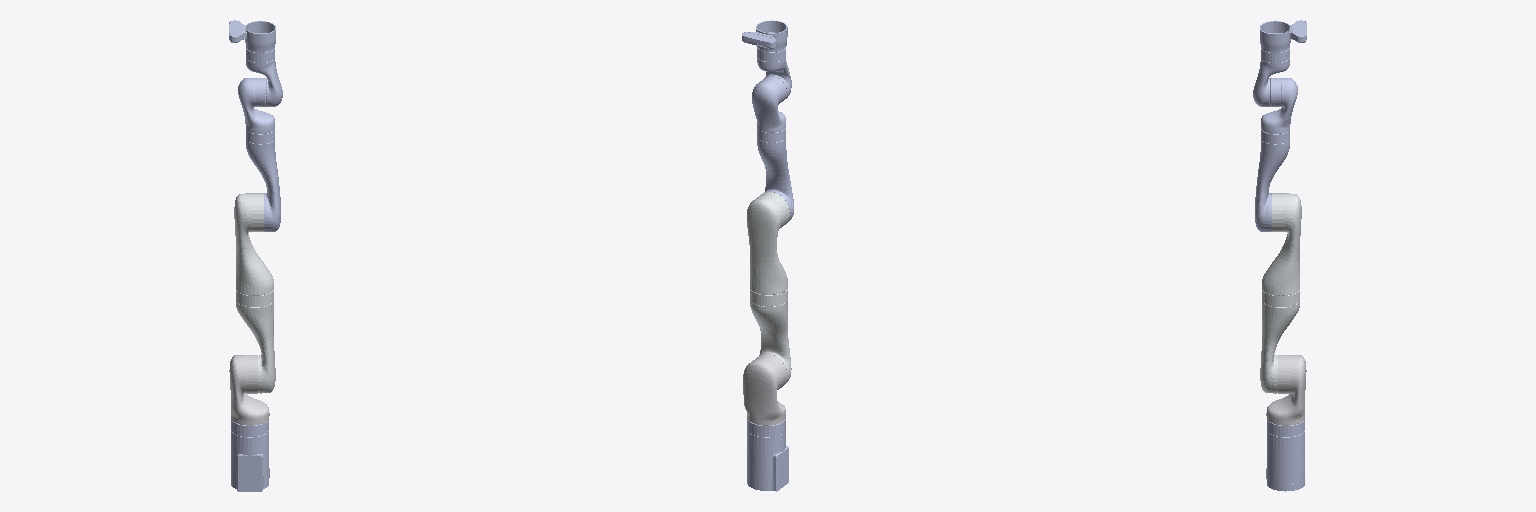
The robot description file, URDF, robot "JACO3_URDF_V10":
<robot
  name="JACO3_URDF_V10" version="1.0">
  <link
    name="base_link">
    <inertial>
      <origin
        xyz="-0.00077898 -4.2629E-05 0.077301"
        rpy="0 0 0" />
      <mass
        value="1.661" />
      <inertia
        ixx="0.0046774"
        ixy="-2.8192E-07"
        ixz="-4.8238E-05"
        iyy="0.0047194"
        iyz="-4.2299E-06"
        izz="0.0019958" />
    </inertial>
    <visual>
      <origin
        xyz="0 0 0"
        rpy="0 0 0" />
      <geometry>
        <mesh
          filename="package://kortex_description/meshes/base_link.dae" />
      </geometry>
      <material
        name="">
        <color
          rgba="0.79216 0.81961 0.93333 1" />
      </material>
    </visual>
    <collision>
      <origin
        xyz="0 0 0"
        rpy="0 0 0" />
      <geometry>
        <mesh
          filename="package://kortex_description/meshes/base_link.dae" />
      </geometry>
    </collision>
  </link>
  <link
    name="Shoulder_Link">
    <inertial>
      <origin
        xyz="-2.2888E-05 -0.010511 -0.075159"
        rpy="0 0 0" />
      <mass
        value="2.009" />
      <inertia
        ixx="0.0045081"
        ixy="-8.5826E-07"
        ixz="-1.8997E-06"
        iyy="0.0047695"
        iyz="-0.00045534"
        izz="0.0013903" />
    </inertial>
    <visual>
      <origin
        xyz="0 0 0"
        rpy="0 0 0" />
      <geometry>
        <mesh
          filename="package://kortex_description/meshes/Shoulder_Link.dae" />
      </geometry>
      <material
        name="">
        <color
          rgba="0.86667 0.86667 0.8902 1" />
      </material>
    </visual>
    <collision>
      <origin
        xyz="0 0 0"
        rpy="0 0 0" />
      <geometry>
        <mesh
          filename="package://kortex_description/meshes/Shoulder_Link.dae" />
      </geometry>
    </collision>
  </link>
  <joint
    name="Actuator1"
    type="continuous">
    <origin
      xyz="0 0 0.15643"
      rpy="3.1416 0 0" />
    <parent
      link="base_link" />
    <child
      link="Shoulder_Link" />
    <axis
      xyz="0 0 1" />
    <limit
      effort="39"
      velocity="0.8727" />
  </joint>
  <link
    name="HalfArm1_Link">
    <inertial>
      <origin
        xyz="-2.7821E-05 -0.097298 -0.012693"
        rpy="0 0 0" />
      <mass
        value="1.106" />
      <inertia
        ixx="0.0089168"
        ixy="-2.8995E-06"
        ixz="-1.6642E-07"
        iyy="0.00073106"
        iyz="0.00051768"
        izz="0.0090416" />
    </inertial>
    <visual>
      <origin
        xyz="0 0 0"
        rpy="0 0 0" />
      <geometry>
        <mesh
          filename="package://kortex_description/meshes/HalfArm1_Link.dae" />
      </geometry>
      <material
        name="">
        <color
          rgba="0.89804 0.91765 0.92941 1" />
      </material>
    </visual>
    <collision>
      <origin
        xyz="0 0 0"
        rpy="0 0 0" />
      <geometry>
        <mesh
          filename="package://kortex_description/meshes/HalfArm1_Link.dae" />
      </geometry>
    </collision>
  </link>
  <joint
    name="Actuator2"
    type="revolute">
    <origin
      xyz="0 0.005375 -0.12838"
      rpy="1.5708 0 0" />
    <parent
      link="Shoulder_Link" />
    <child
      link="HalfArm1_Link" />
    <axis
      xyz="0 0 1" />
    <limit
      lower="-2.2000"
      upper="2.2000"
      effort="39"
      velocity="0.8727" />
  </joint>
  <link
    name="HalfArm2_Link">
    <inertial>
      <origin
        xyz="2.9808E-05 -0.0062391 -0.11552"
        rpy="0 0 0" />
      <mass
        value="1.106" />
      <inertia
        ixx="0.0088707"
        ixy="2.3435E-07"
        ixz="-3.3202E-06"
        iyy="0.0090034"
        iyz="-0.00050415"
        izz="0.00071859" />
    </inertial>
    <visual>
      <origin
        xyz="0 0 0"
        rpy="0 0 0" />
      <geometry>
        <mesh
          filename="package://kortex_description/meshes/HalfArm2_Link.dae" />
      </geometry>
      <material
        name="">
        <color
          rgba="0.89804 0.91765 0.92941 1" />
      </material>
    </visual>
    <collision>
      <origin
        xyz="0 0 0"
        rpy="0 0 0" />
      <geometry>
        <mesh
          filename="package://kortex_description/meshes/HalfArm2_Link.dae" />
      </geometry>
    </collision>
  </link>
  <joint
    name="Actuator3"
    type="continuous">
    <origin
      xyz="0 -0.21038 -0.006375"
      rpy="-1.5708 0 0" />
    <parent
      link="HalfArm1_Link" />
    <child
      link="HalfArm2_Link" />
    <axis
      xyz="0 0 1" />
    <limit
      effort="39"
      velocity="0.8727" />
  </joint>
  <link
    name="ForeArm_Link">
    <inertial>
      <origin
        xyz="-1.1024E-05 -0.075357 -0.014085"
        rpy="0 0 0" />
      <mass
        value="0.895" />
      <inertia
        ixx="0.0067339"
        ixy="6.9646E-07"
        ixz="-2.2424E-08"
        iyy="0.00045088"
        iyz="0.00038999"
        izz="0.0068613" />
    </inertial>
    <visual>
      <origin
        xyz="0 0 0"
        rpy="0 0 0" />
      <geometry>
        <mesh
          filename="package://kortex_description/meshes/ForeArm_Link.dae" />
      </geometry>
      <material
        name="">
        <color
          rgba="0.79216 0.81961 0.93333 1" />
      </material>
    </visual>
    <collision>
      <origin
        xyz="0 0 0"
        rpy="0 0 0" />
      <geometry>
        <mesh
          filename="package://kortex_description/meshes/ForeArm_Link.dae" />
      </geometry>
    </collision>
  </link>
  <joint
    name="Actuator4"
    type="revolute">
    <origin
      xyz="0 0.006375 -0.21038"
      rpy="1.5708 0 0" />
    <parent
      link="HalfArm2_Link" />
    <child
      link="ForeArm_Link" />
    <axis
      xyz="0 0 1" />
    <limit
      lower="-2.5656"
      upper="2.5656"
      effort="39"
      velocity="0.8727" />
  </joint>
  <link
    name="Wrist1_Link">
    <inertial>
      <origin
        xyz="-3.2964E-07 -0.009617 -0.062968"
        rpy="0 0 0" />
      <mass
        value="0.654" />
      <inertia
        ixx="0.0013311"
        ixy="-4.5849E-10"
        ixz="-4.2678E-10"
        iyy="0.0013282"
        iyz="-0.00022936"
        izz="0.00030696" />
    </inertial>
    <visual>
      <origin
        xyz="0 0 0"
        rpy="0 0 0" />
      <geometry>
        <mesh
          filename="package://kortex_description/meshes/Wrist1_Link.dae" />
      </geometry>
      <material
        name="">
        <color
          rgba="0.79216 0.81961 0.93333 1" />
      </material>
    </visual>
    <collision>
      <origin
        xyz="0 0 0"
        rpy="0 0 0" />
      <geometry>
        <mesh
          filename="package://kortex_description/meshes/Wrist1_Link.dae" />
      </geometry>
    </collision>
  </link>
  <joint
    name="Actuator5"
    type="continuous">
    <origin
      xyz="0 -0.20843 -0.006375"
      rpy="-1.5708 0 0" />
    <parent
      link="ForeArm_Link" />
    <child
      link="Wrist1_Link" />
    <axis
      xyz="0 0 1" />
    <limit
      effort="9"
      velocity="0.8727" />
  </joint>
  <link
    name="Wrist2_Link">
    <inertial>
      <origin
        xyz="-3.4377E-07 -0.044043 -0.0097804"
        rpy="0 0 0" />
      <mass
        value="0.654" />
      <inertia
        ixx="0.0013422"
        ixy="4.9596E-10"
        ixz="-7.3382E-10"
        iyy="0.00031025"
        iyz="0.00023506"
        izz="0.001336" />
    </inertial>
    <visual>
      <origin
        xyz="0 0 0"
        rpy="0 0 0" />
      <geometry>
        <mesh
          filename="package://kortex_description/meshes/Wrist2_Link.dae" />
      </geometry>
      <material
        name="">
        <color
          rgba="0.79216 0.81961 0.93333 1" />
      </material>
    </visual>
    <collision>
      <origin
        xyz="0 0 0"
        rpy="0 0 0" />
      <geometry>
        <mesh
          filename="package://kortex_description/meshes/Wrist2_Link.dae" />
      </geometry>
    </collision>
  </link>
  <joint
    name="Actuator6"
    type="revolute">
    <origin
      xyz="0 0.00017505 -0.10593"
      rpy="1.5708 0 0" />
    <parent
      link="Wrist1_Link" />
    <child
      link="Wrist2_Link" />
    <axis
      xyz="0 0 1" />
    <limit
      lower="-2.0500"
      upper="2.0500"
      effort="9"
      velocity="0.8727" />
  </joint>
  <link
    name="Bracelet_Link">
    <inertial>
      <origin
        xyz="-2.788E-05 -0.0052162 -0.022692"
        rpy="0 0 0" />
      <mass
        value="0.31408" />
      <inertia
        ixx="0.0002264"
        ixy="-4.9091E-07"
        ixz="-2.6238E-07"
        iyy="0.00015697"
        iyz="-4.5614E-05"
        izz="0.00025981" />
    </inertial>
    <visual>
      <origin
        xyz="0 0 0"
        rpy="0 0 0" />
      <geometry>
        <mesh
          filename="package://kortex_description/meshes/Bracelet_Link.dae" />
      </geometry>
      <material
        name="">
        <color
          rgba="0.79216 0.81961 0.93333 1" />
      </material>
    </visual>
    <collision>
      <origin
        xyz="0 0 0"
        rpy="0 0 0" />
      <geometry>
        <mesh
          filename="package://kortex_description/meshes/Bracelet_Link.dae" />
      </geometry>
    </collision>
  </link>
  <joint
    name="Actuator7"
    type="continuous">
    <origin
      xyz="0 -0.10593 -0.00017505"
      rpy="-1.5708 0 0" />
    <parent
      link="Wrist2_Link" />
    <child
      link="Bracelet_Link" />
    <axis
      xyz="0 0 1" />
    <limit
      effort="9"
      velocity="0.8727" />
  </joint>
  <link
    name="EndEffector_Link">
    <inertial>
      <origin
        xyz="-0.00017492 0.014824 -0.62969"
        rpy="0 0 0" />
      <mass
        value="0" />
      <inertia
        ixx="0"
        ixy="0"
        ixz="0"
        iyy="0"
        iyz="0"
        izz="0" />
    </inertial>
    <visual>
      <origin
        xyz="0 0 0"
        rpy="0 0 0" />
      <geometry>
        <mesh
          filename="package://kortex_description/meshes/EndEffector_Link.dae" />
      </geometry>
      <material
        name="">
        <color
          rgba="0.79216 0.81961 0.93333 1" />
      </material>
    </visual>
    <collision>
      <origin
        xyz="0 0 0"
        rpy="0 0 0" />
      <geometry>
        <mesh
          filename="package://kortex_description/meshes/EndEffector_Link.dae" />
      </geometry>
    </collision>
  </link>
  <joint
    name="Endeffector"
    type="fixed">
    <origin
      xyz="0 0 -0.059525"
      rpy="3.1416 0 0" />
    <parent
      link="Bracelet_Link" />
    <child
      link="EndEffector_Link" />
    <axis
      xyz="0 0 0" />
  </joint>
</robot>

--- Render facts (derived) ---
Views: 3 orthographic renders of the robot side by side, from view 1: azimuth 90°, elevation 25°; view 2: azimuth 150°, elevation 25°; view 3: azimuth 270°, elevation 25°.
Robot: JACO3_URDF_V10 — 9 links, 8 joints (3 revolute, 4 continuous, 1 fixed); root link base_link; default pose: every joint at zero.
Visible links, largest first — view 1: HalfArm2_Link, base_link, HalfArm1_Link, Shoulder_Link, ForeArm_Link, Wrist1_Link, Bracelet_Link, Wrist2_Link; view 2: HalfArm2_Link, base_link, Shoulder_Link, HalfArm1_Link, ForeArm_Link, Wrist1_Link, Bracelet_Link, Wrist2_Link; view 3: HalfArm2_Link, base_link, HalfArm1_Link, Shoulder_Link, ForeArm_Link, Wrist1_Link, Bracelet_Link, Wrist2_Link.
Link boxes in pixels (x1,y1,x2,y2): HalfArm2_Link: (234,193,273,295); base_link: (231,420,269,491); HalfArm1_Link: (236,290,275,393); Shoulder_Link: (229,355,269,425); ForeArm_Link: (246,129,280,231); Wrist1_Link: (238,78,274,133); Bracelet_Link: (229,20,275,52); Wrist2_Link: (246,48,282,106); HalfArm2_Link: (747,192,789,294); base_link: (747,418,788,491); Shoulder_Link: (743,354,786,425); HalfArm1_Link: (750,289,791,383); ForeArm_Link: (757,128,793,224); Wrist1_Link: (752,76,786,132); Bracelet_Link: (742,20,787,51); Wrist2_Link: (757,47,791,98); HalfArm2_Link: (1262,193,1301,295); base_link: (1266,420,1304,491); HalfArm1_Link: (1260,290,1299,393); Shoulder_Link: (1266,355,1306,425); ForeArm_Link: (1255,129,1289,231); Wrist1_Link: (1261,78,1297,133); Bracelet_Link: (1260,20,1306,52); Wrist2_Link: (1253,48,1289,106).
Size in the robot's own frame: 0.0927 by 0.1278 by 1.19 metres.
8 mesh visuals loaded from 9 distinct referenced files (8 Collada DAE); not drawn: 1 (reference not matched to a file when rendering).